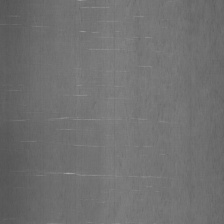waist_folding: (12, 28, 205, 198)
